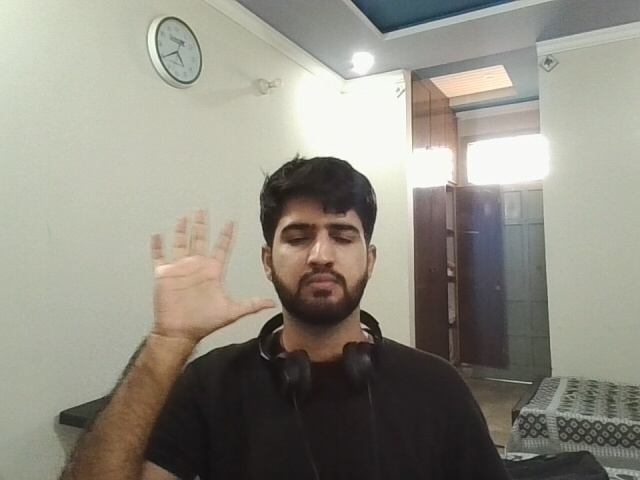Hello: (128, 203, 279, 350)
